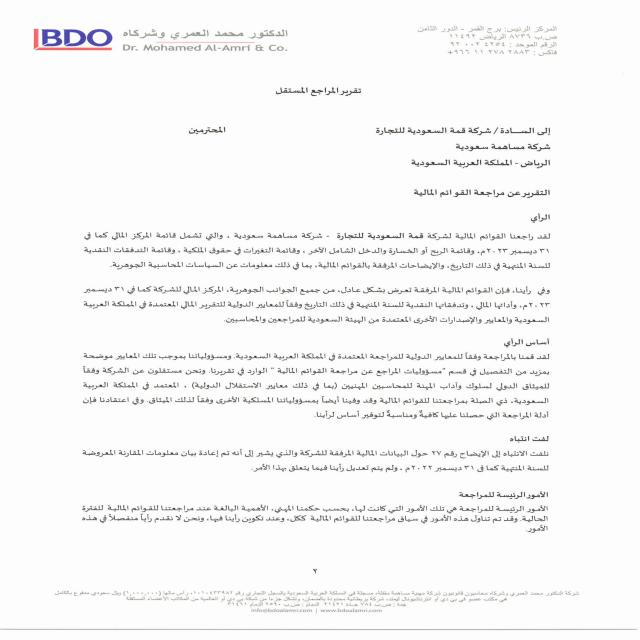auditor_report: (252, 80, 370, 106)
